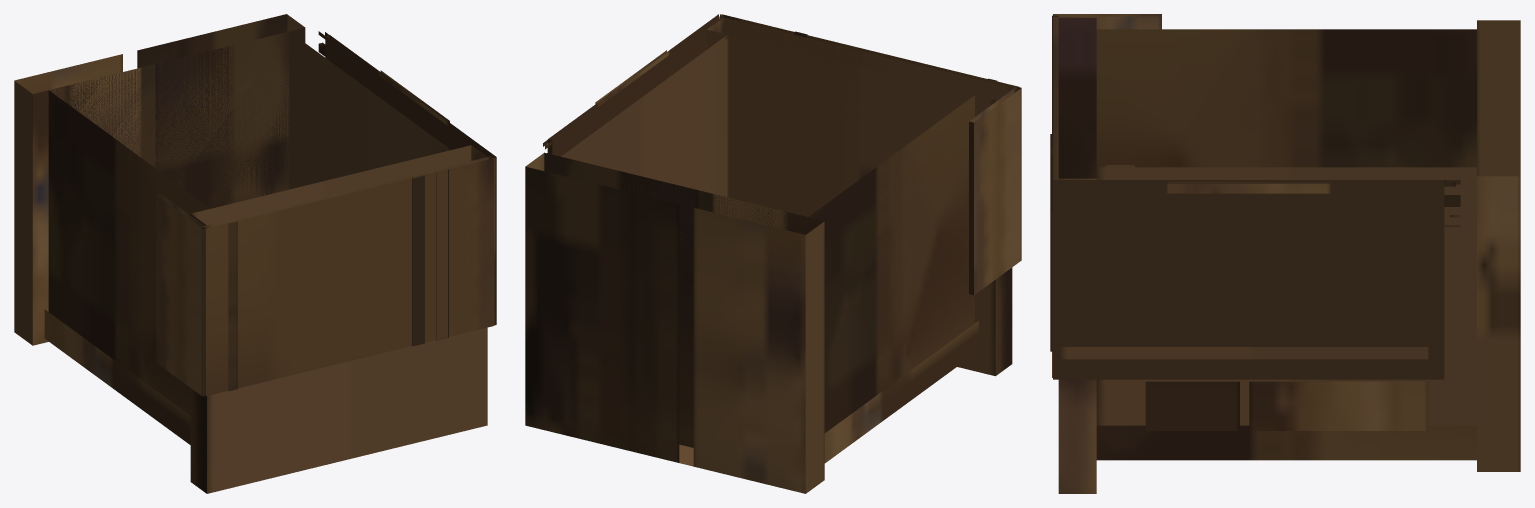
The model's file is section-3.obj.
3 views of the same model, side by side, from view 1: azimuth 30°, elevation 25°; view 2: azimuth 150°, elevation 25°; view 3: azimuth 270°, elevation 25° (orthographic). The views are drawn at different scales.
Bounding box in the file's own units: 0.739 × 0.64 × 0.865.
